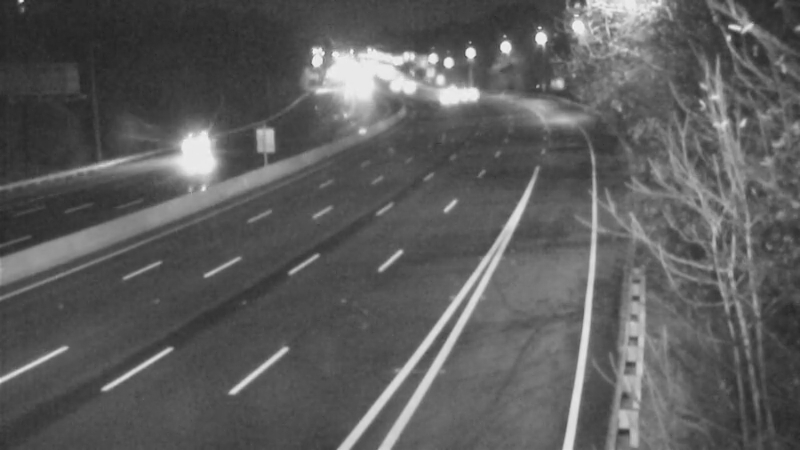vehicle: (444, 69, 494, 119), (421, 72, 471, 122), (166, 124, 216, 174)
